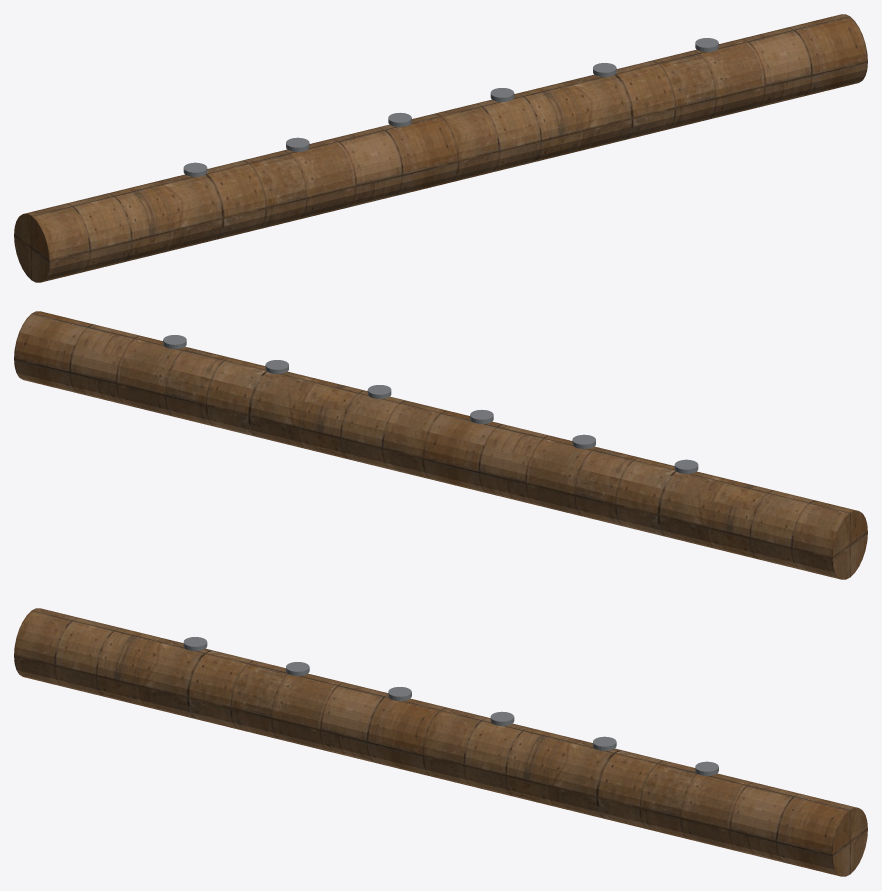
The model's file is flauta.glb.
The picture shows the model from 3 angles, top to bottom: view 1: azimuth 30°, elevation 25°; view 2: azimuth 150°, elevation 25°; view 3: azimuth 330°, elevation 25°; orthographic projection.
Parts seen in each view (by area): view 1: Tubo; view 2: Tubo; view 3: Tubo.
Part boxes in pixels (x1=…): Tubo: x1=14, y1=14, x2=867, y2=282; Tubo: x1=14, y1=311, x2=867, y2=579; Tubo: x1=14, y1=608, x2=867, y2=876.
Bounding box in the file's own units: 2 × 0.17 × 0.15.
Materials: 2 (1 with a texture image).
